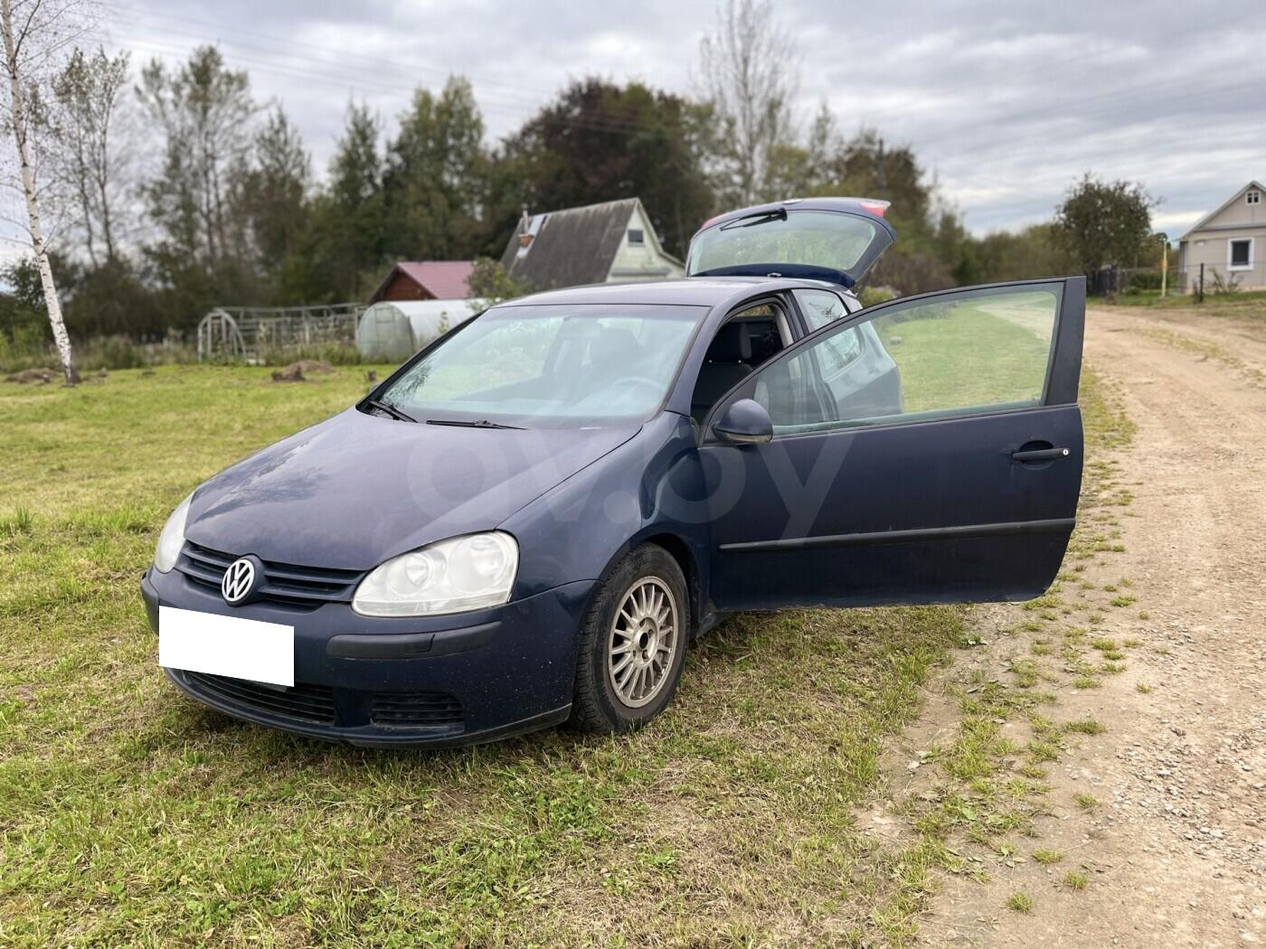Golf_2003-2009: (137, 268, 915, 731)
